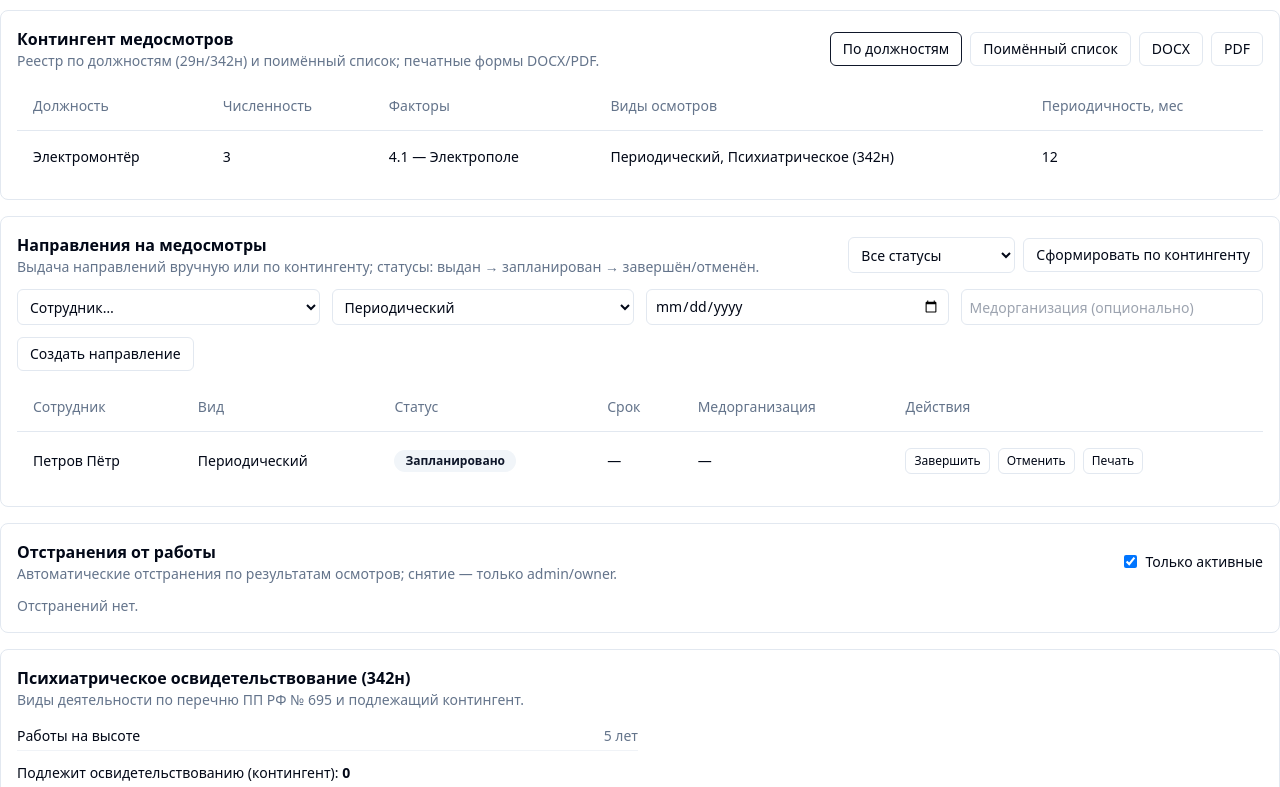
Test: MedicalPage referral completion › shows a hint instead of the picker when the person has no exams
(page scrolled)
What coordinates should you click on to do the following:
click the button "Завершить"
I would click on:
 (948, 460)
Its box is [906,448,990,474].
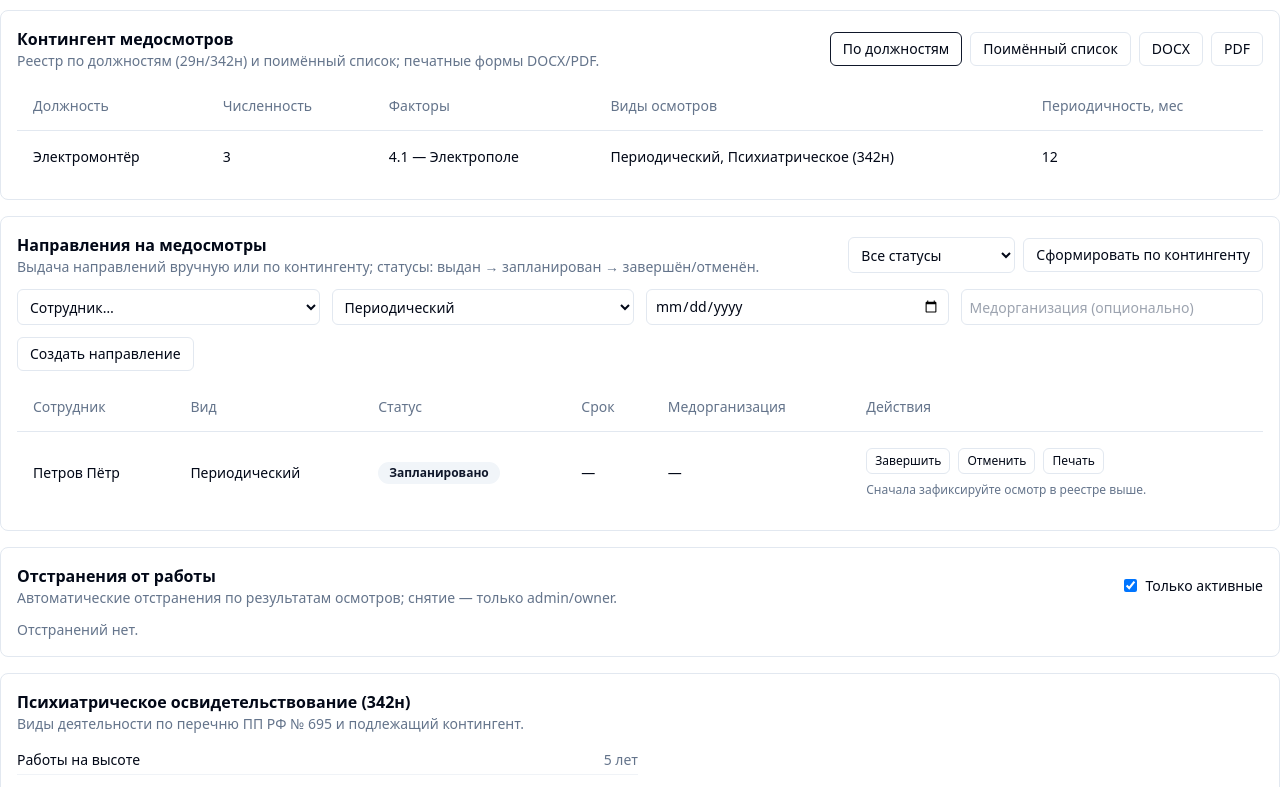
Expected: the text "Сначала зафиксируйте осмотр в реестре выше." is shown, [866,480,1146,498]
